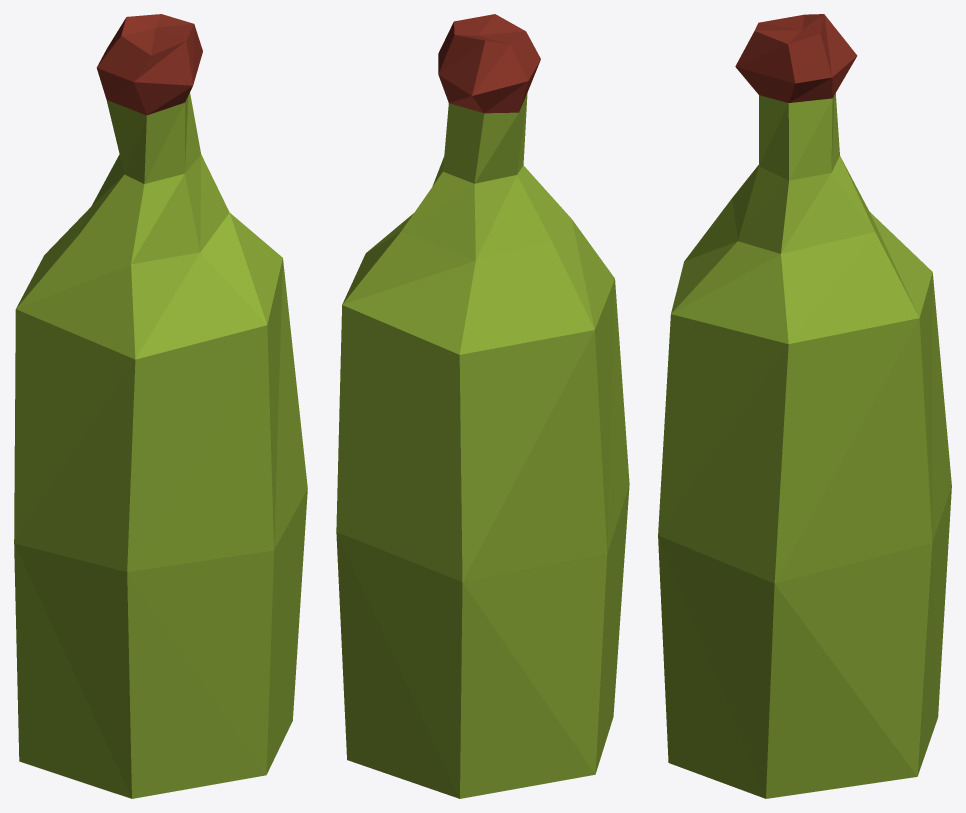
Rendered from RG-Dungeon_Flask-05.fbx.
3 views of the same model, side by side, from view 1: azimuth 30°, elevation 25°; view 2: azimuth 150°, elevation 25°; view 3: azimuth 270°, elevation 25° (orthographic).
Parts seen in each view (by area): view 1: RG-Dungeon_Flask-05; view 2: RG-Dungeon_Flask-05; view 3: RG-Dungeon_Flask-05.
Part boxes in pixels (bbox=[...]): RG-Dungeon_Flask-05: bbox=[14, 14, 307, 798]; RG-Dungeon_Flask-05: bbox=[336, 14, 629, 798]; RG-Dungeon_Flask-05: bbox=[658, 14, 951, 798].
Bounding box in the file's own units: 1.23 × 3.08 × 1.14.
